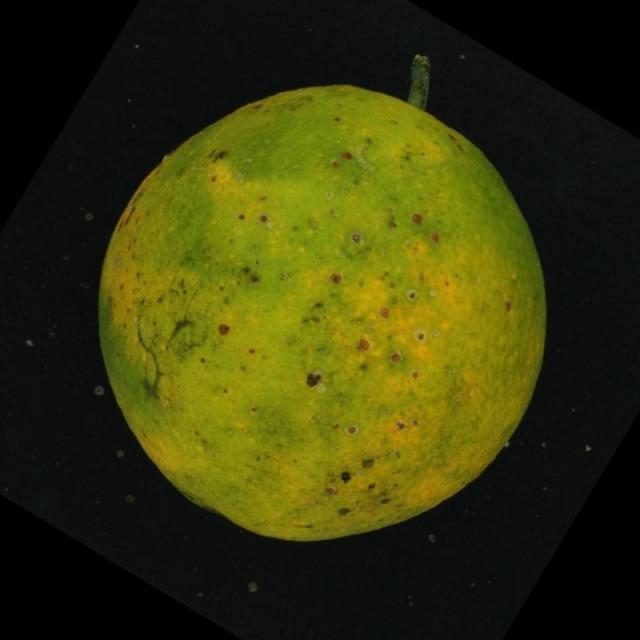grenning: (80, 50, 578, 560)
